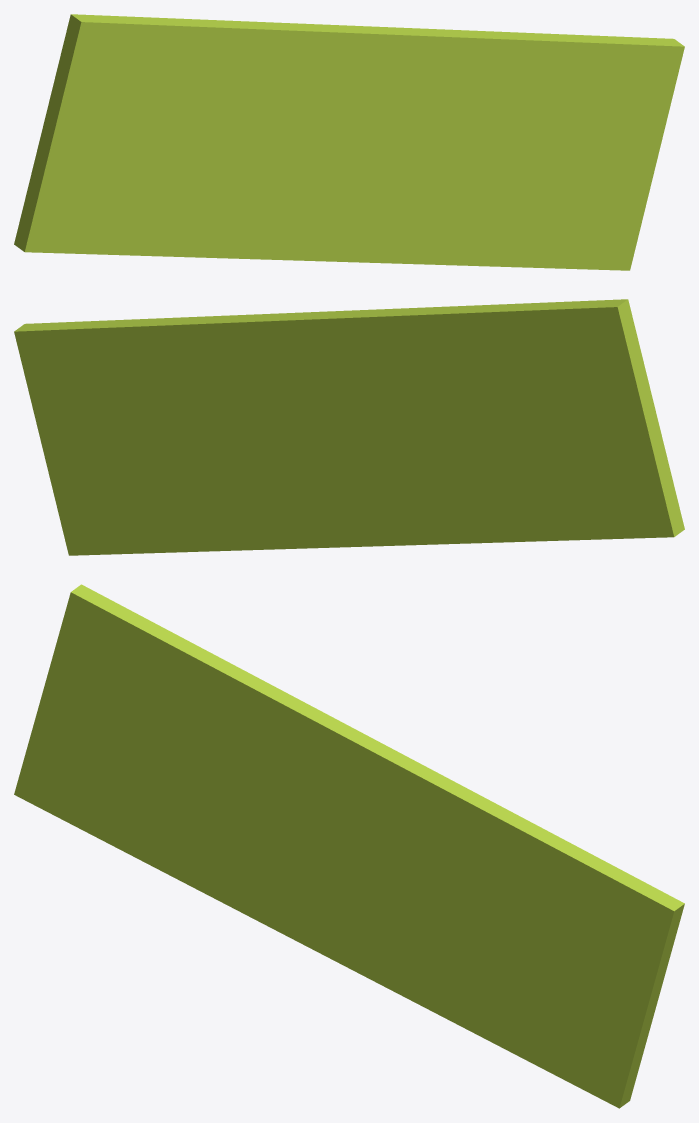
3 renders of one model, top to bottom at view 1: azimuth 30°, elevation 25°; view 2: azimuth 150°, elevation 25°; view 3: azimuth 330°, elevation 25°, orthographic.
Visible parts, largest first — view 1: osm-way27917482-F3; view 2: osm-way27917482-F3; view 3: osm-way27917482-F3.
Part boxes in pixels (x1,y1,x2,y2): osm-way27917482-F3: (14, 14, 684, 270); osm-way27917482-F3: (14, 299, 684, 555); osm-way27917482-F3: (14, 584, 684, 1108).
Bounding box in the file's own units: 5.36 × 2.97 × 0.15.
